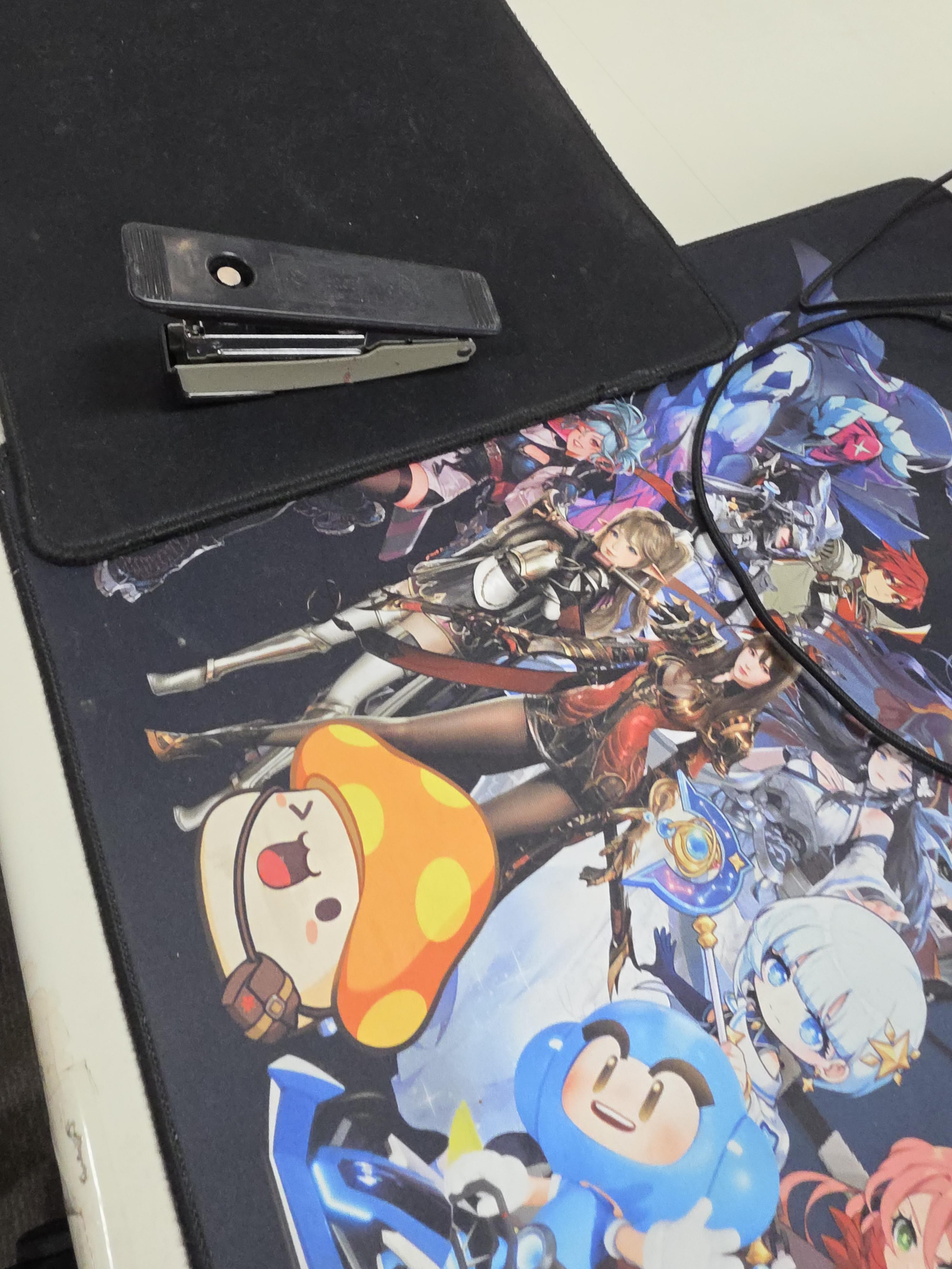stapler: (120, 221, 501, 401)
